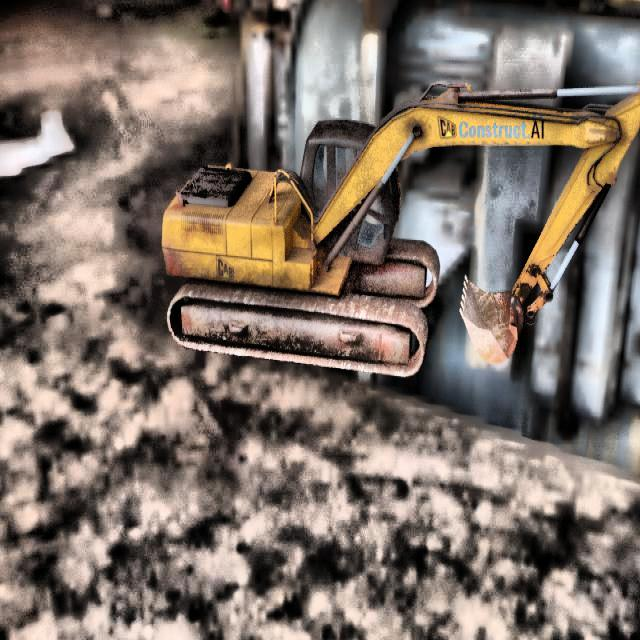excavator: (161, 80, 640, 378)
